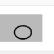no answer: (11, 23, 35, 41)
